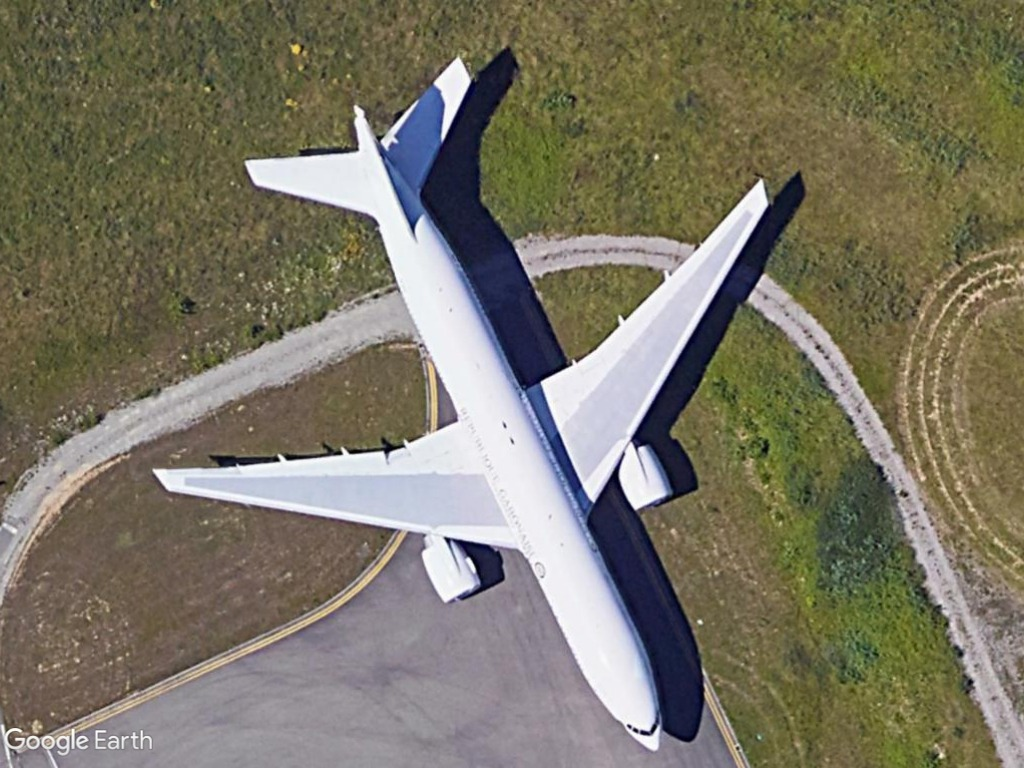airliner: (143, 57, 771, 756)
